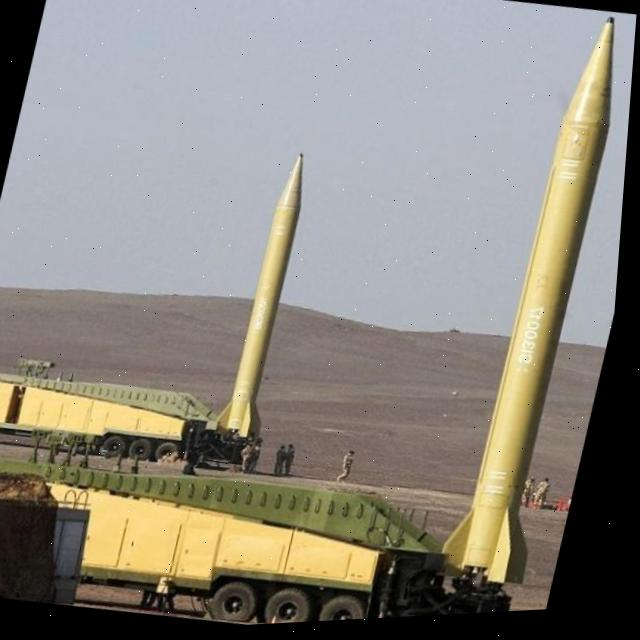missile: (435, 12, 638, 621), (210, 136, 329, 432)
